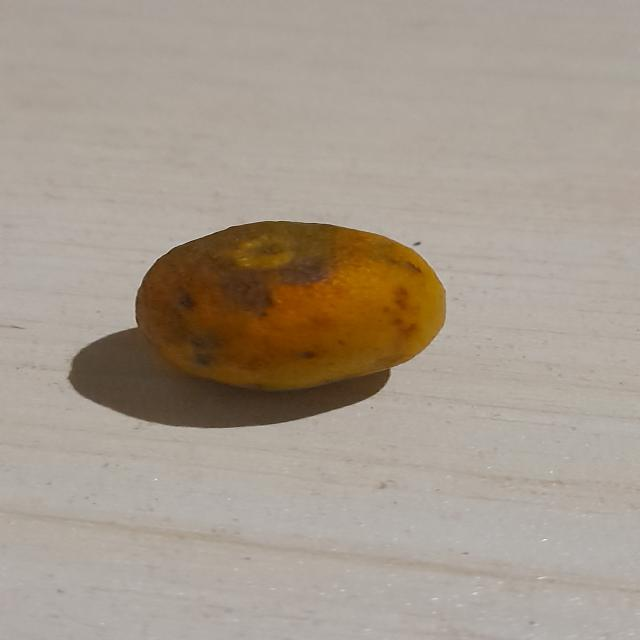black spot: (130, 216, 450, 392)
